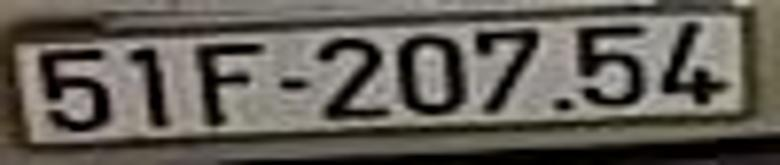-: (281, 75, 308, 93)
.: (553, 95, 572, 115)
0: (399, 32, 468, 112)
1: (129, 41, 173, 128)
2: (316, 38, 393, 121)
4: (659, 22, 733, 106)
5: (575, 23, 647, 108), (40, 46, 111, 131)
7: (476, 27, 542, 114)
F: (195, 38, 266, 132)
